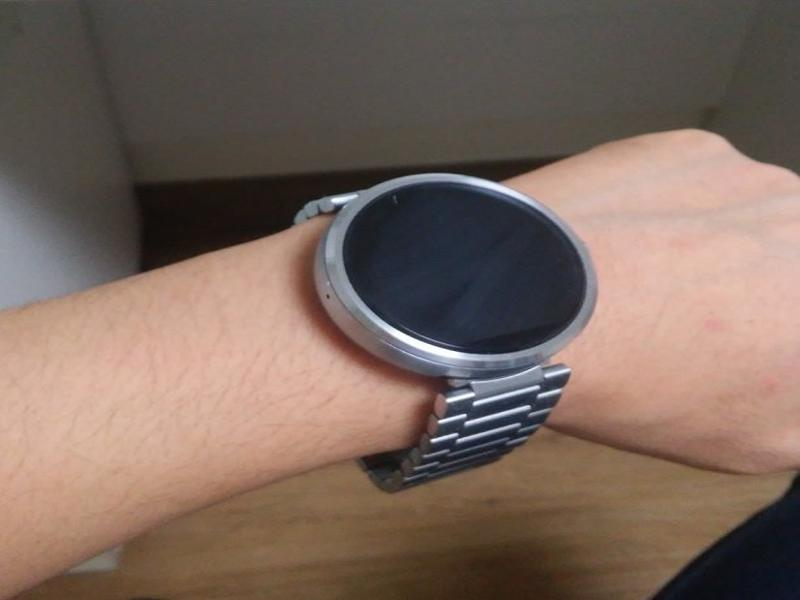watch: (288, 169, 600, 493)
